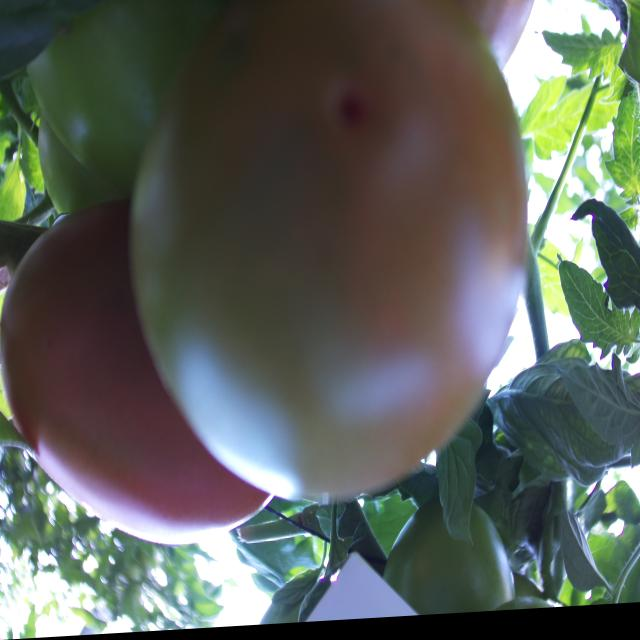sari: (132, 39, 518, 352)
